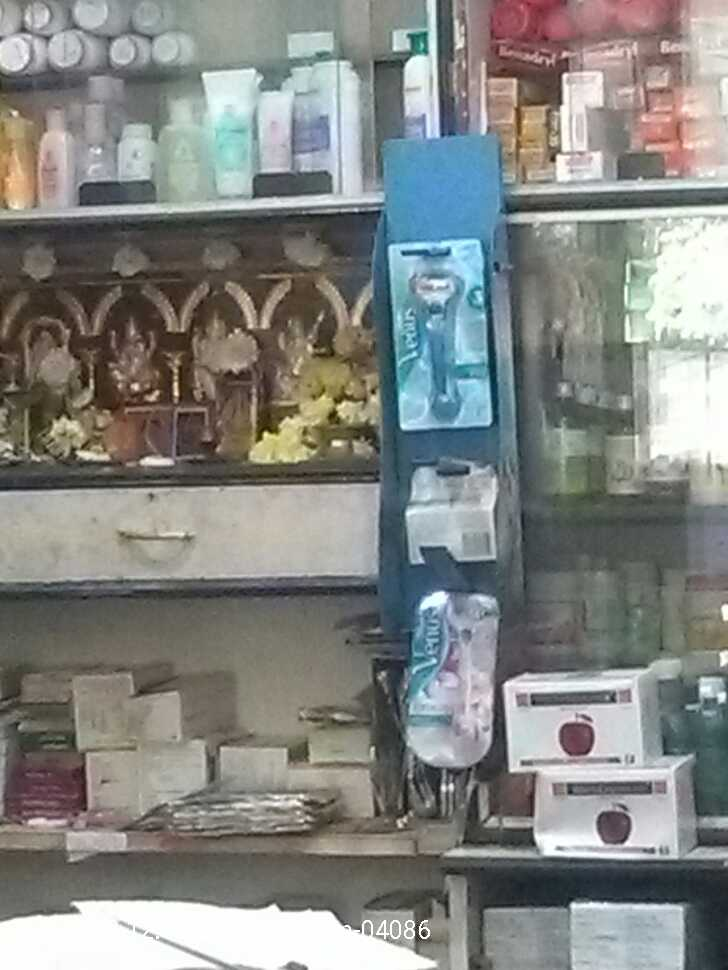venus: (392, 243, 489, 437), (407, 584, 499, 765)
